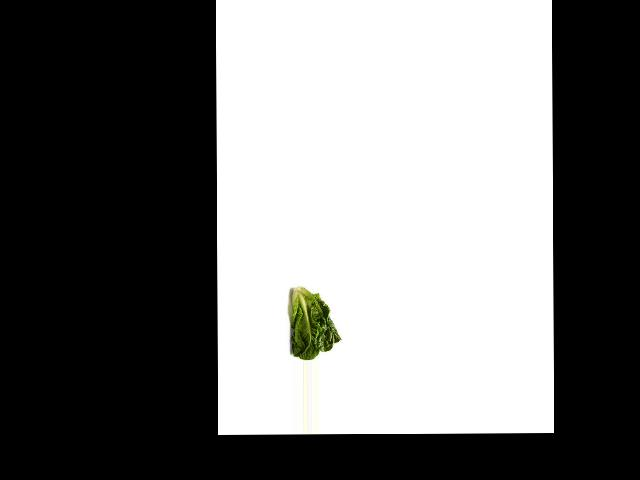lettuce: (279, 283, 341, 360)
